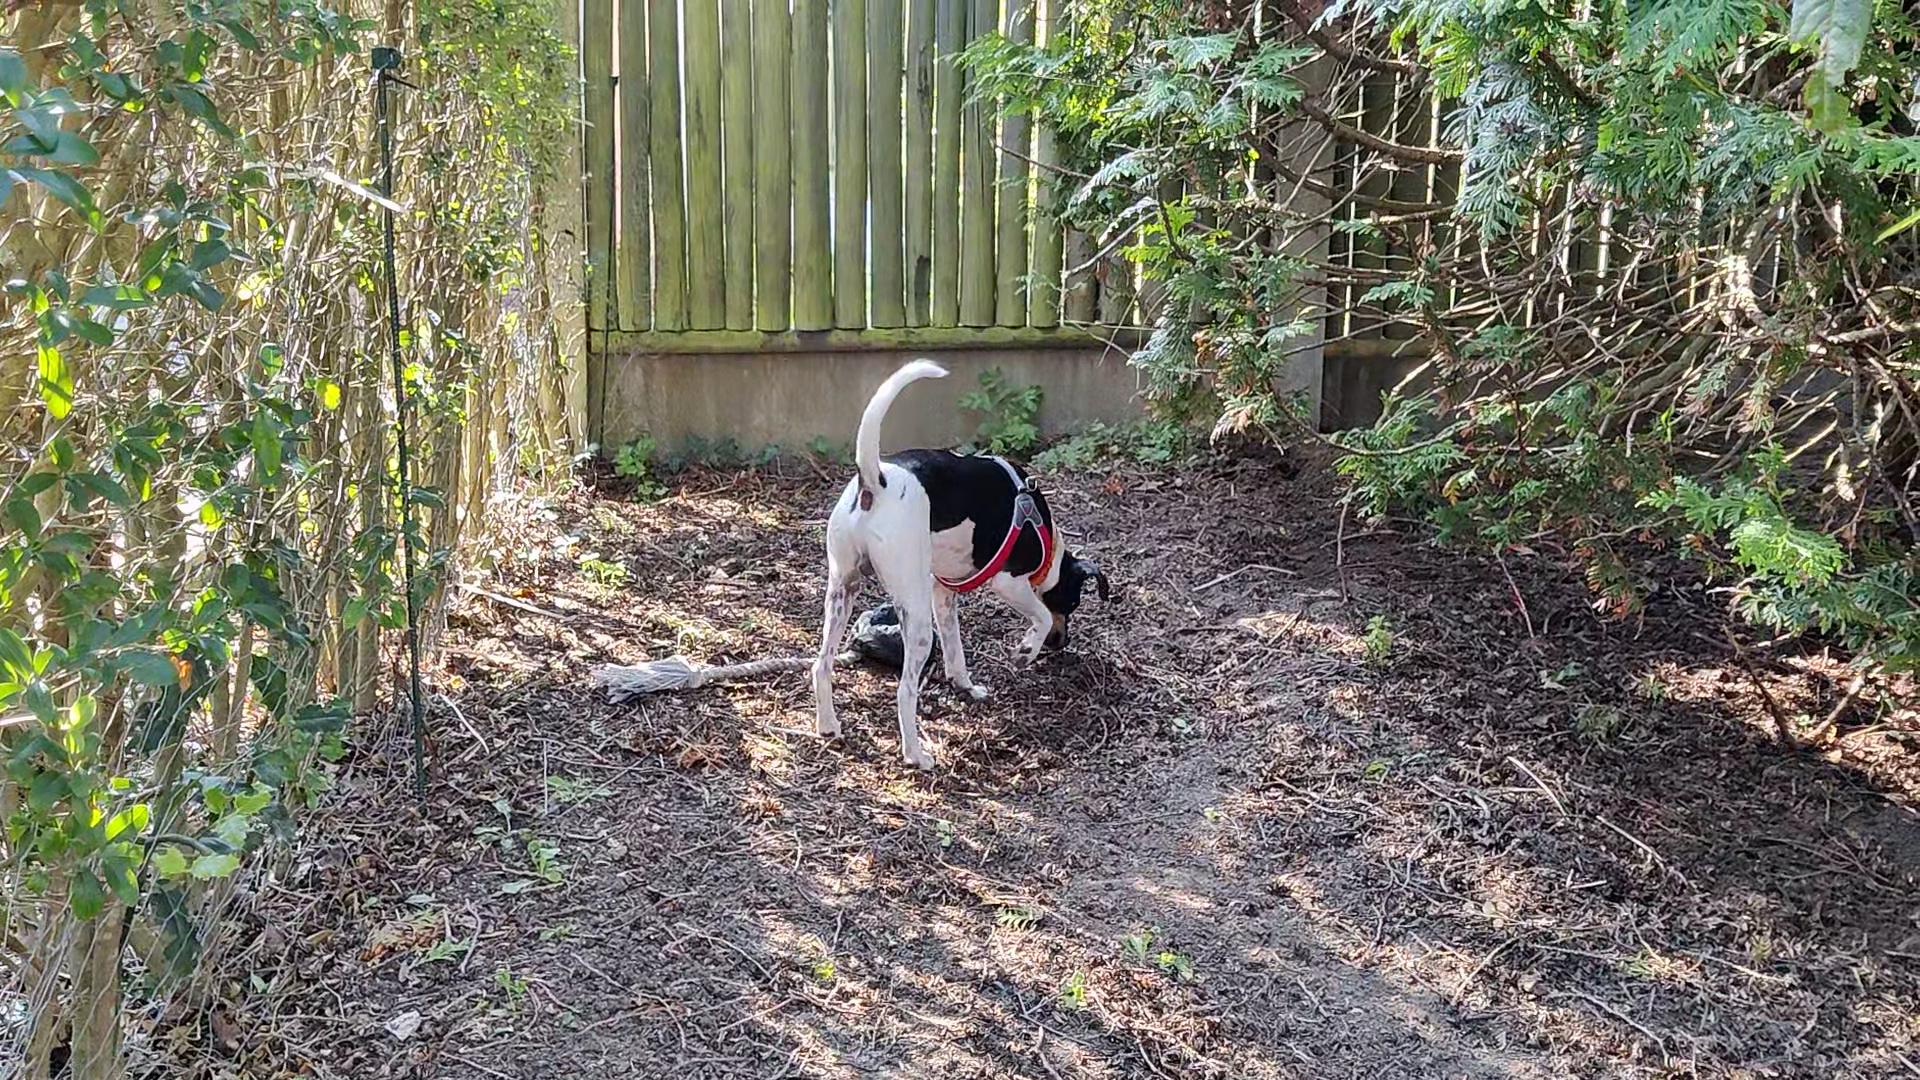Dog: (791, 345, 1126, 786)
